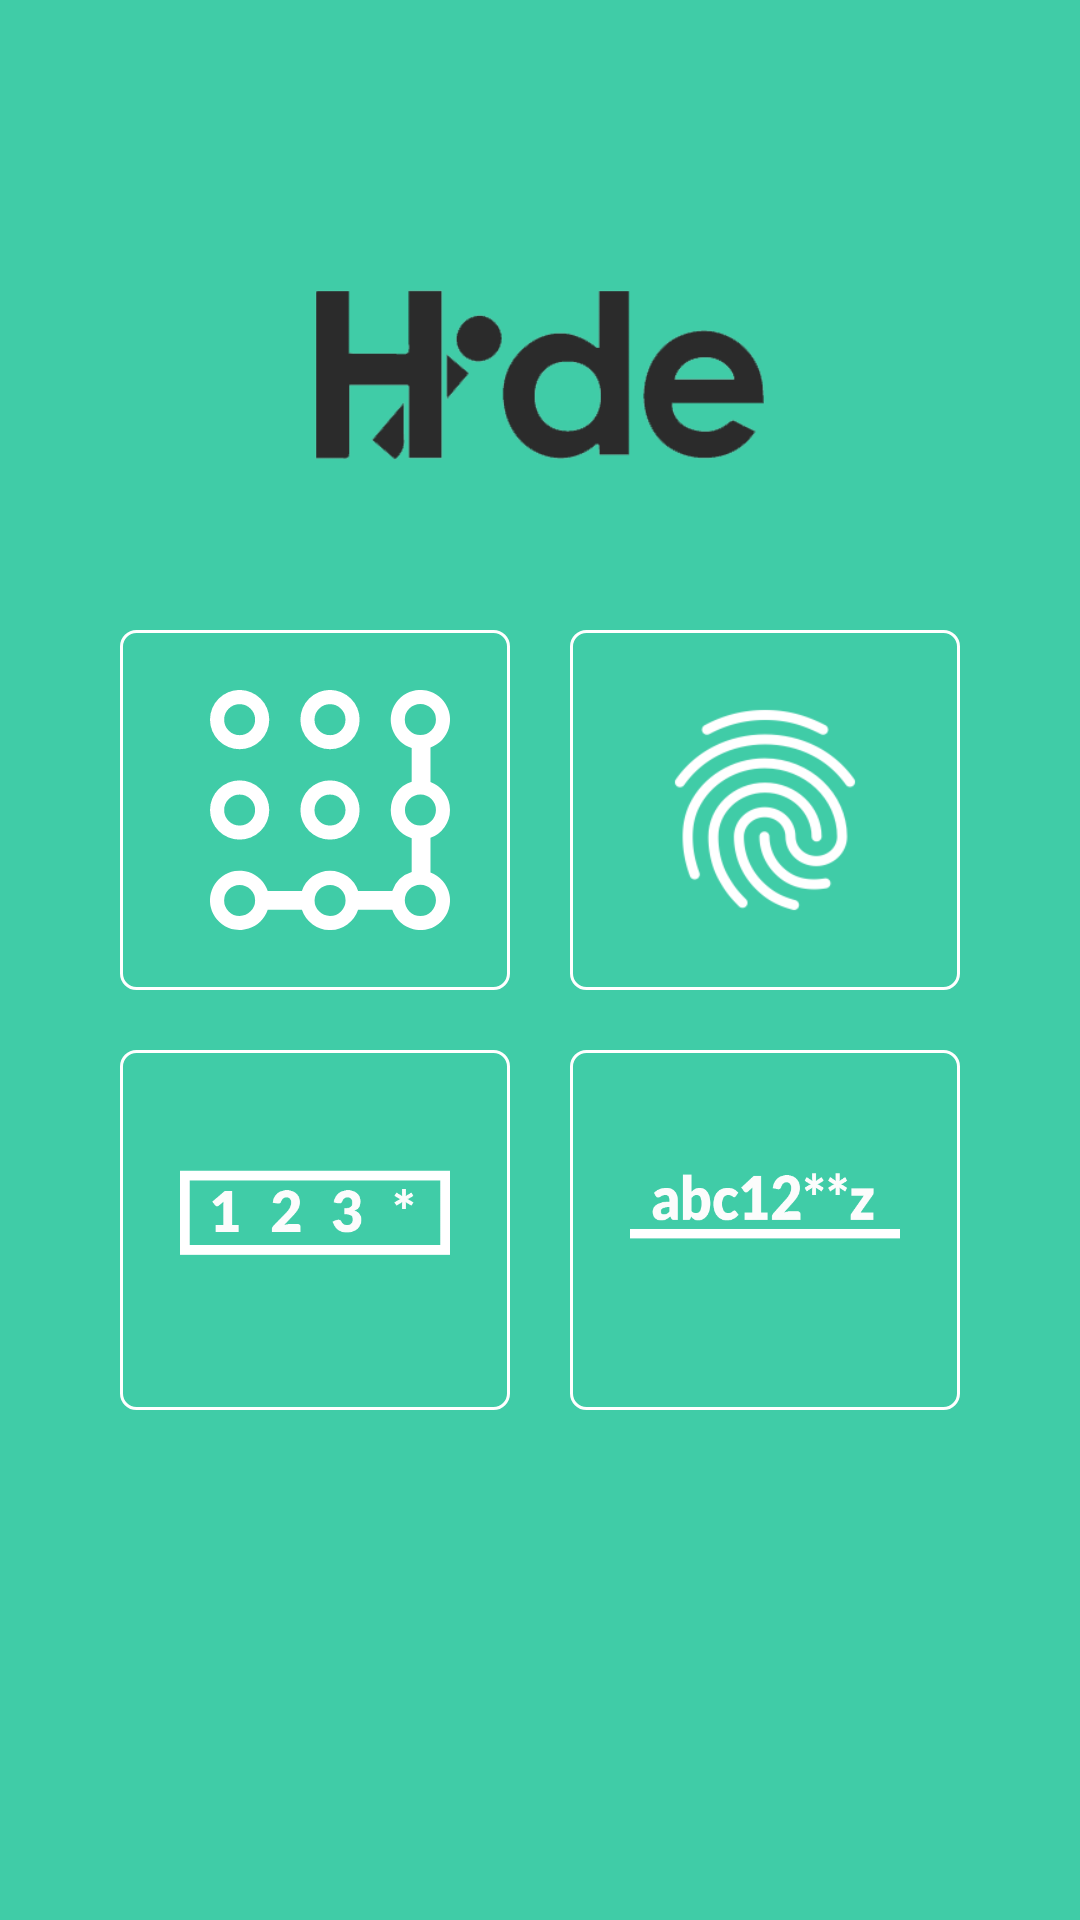

Icon click points for this 1080 x 1920 phone screenshot, format [x,y]:
finger print: [765,810]
password: [765,1206]
pattern: [330,810]
pin: [315,1212]
